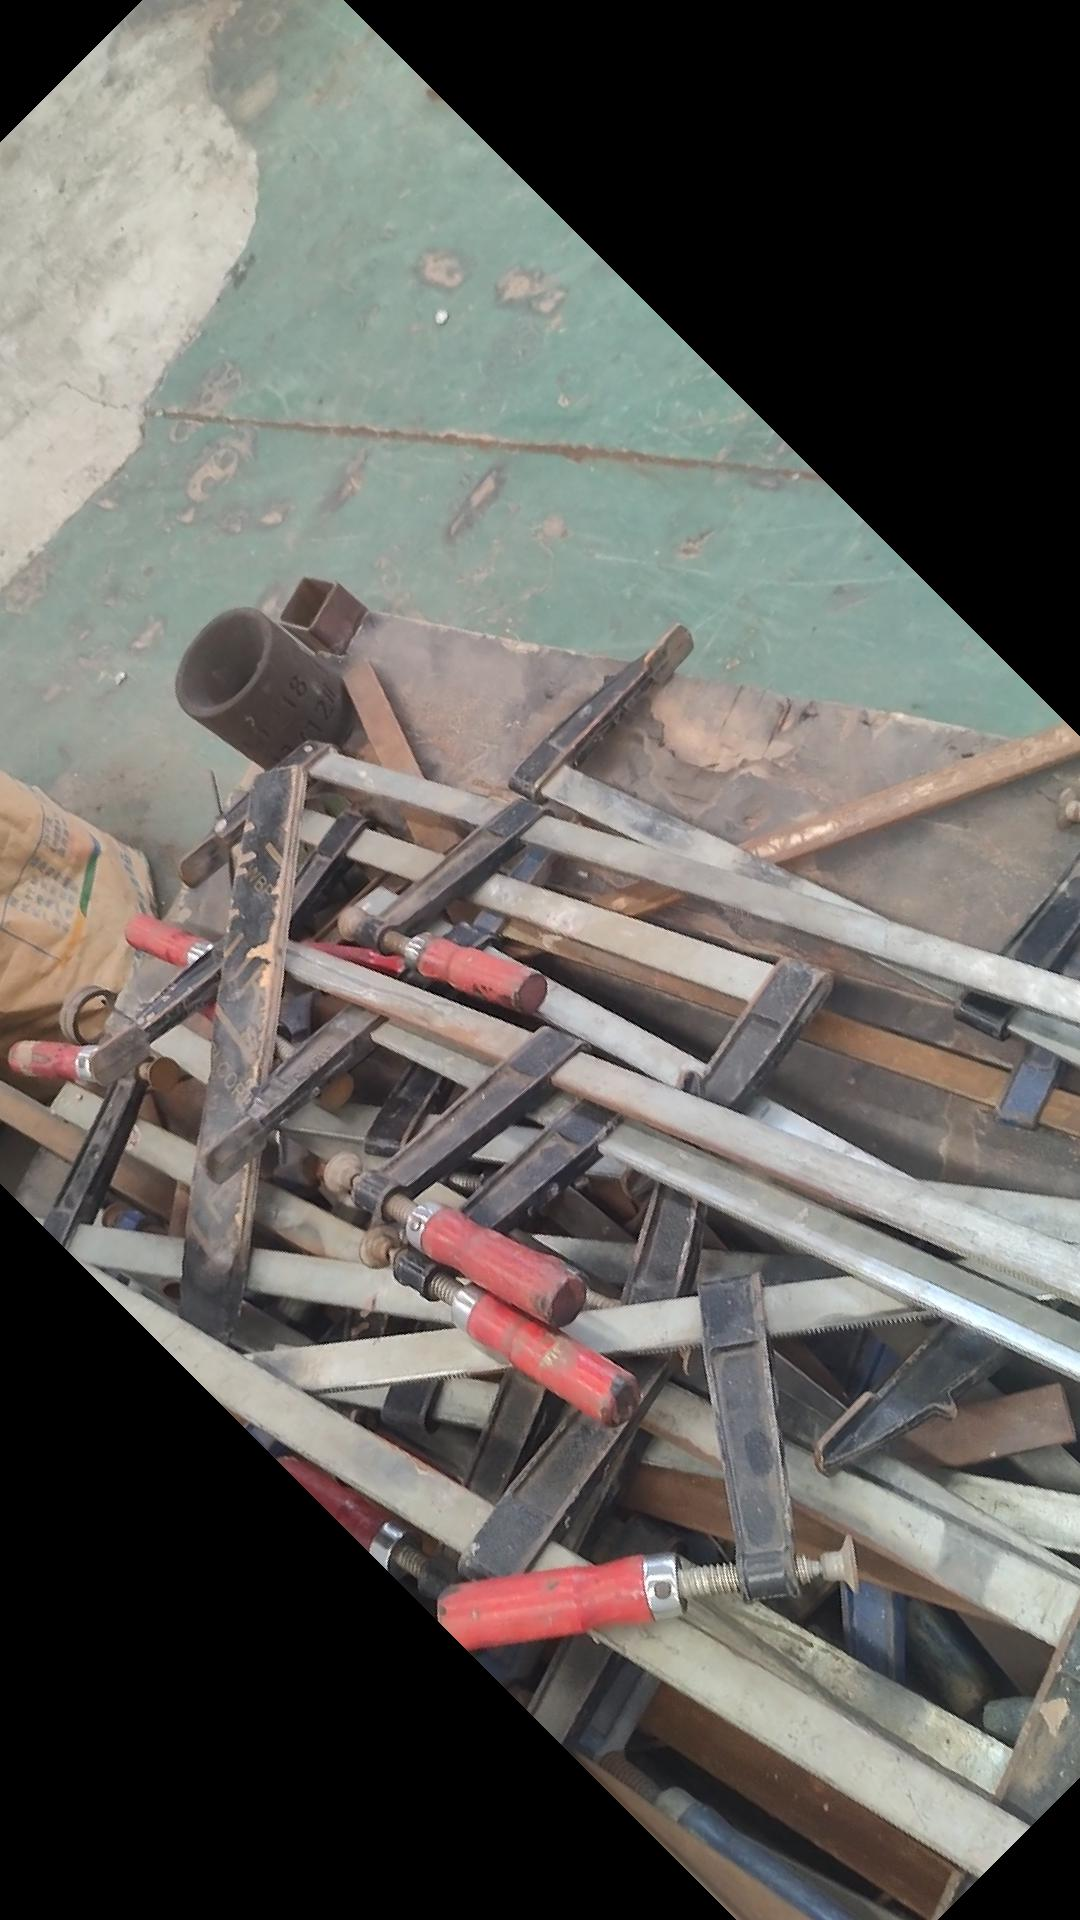pouring hole: (174, 608, 268, 711)
